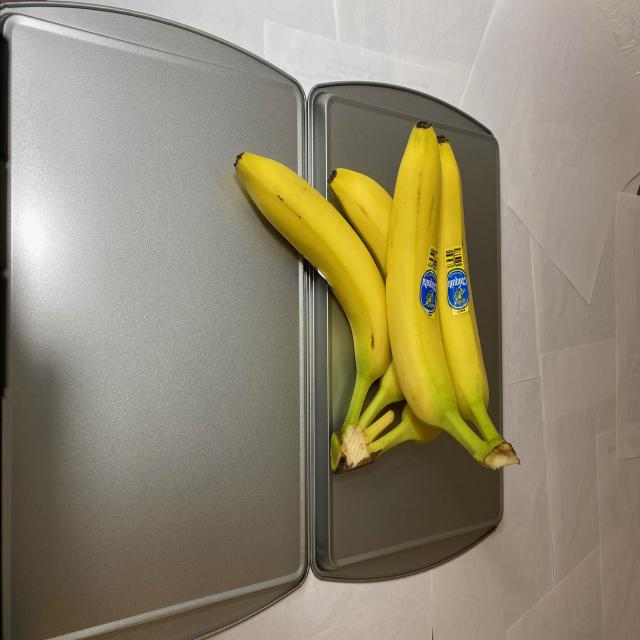banana: (227, 119, 523, 482)
